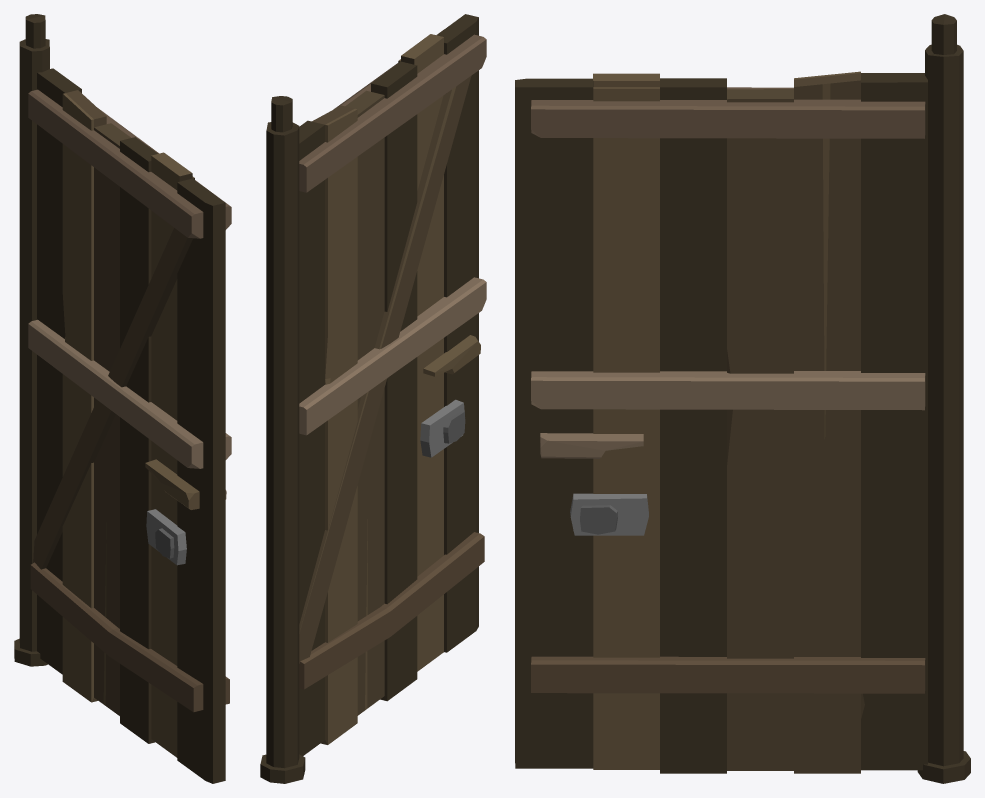
The model's file is EA03_Prop_House_Door_01b.glb.
3 renders of one model, left to right at view 1: azimuth 30°, elevation 25°; view 2: azimuth 150°, elevation 25°; view 3: azimuth 270°, elevation 25°, orthographic. The views are drawn at different scales.
Visible parts, largest first — view 1: EA03_Prop_House_Door_01b; view 2: EA03_Prop_House_Door_01b; view 3: EA03_Prop_House_Door_01b.
Part boxes in pixels (x1=…): EA03_Prop_House_Door_01b: x1=14, y1=14, x2=231, y2=783; EA03_Prop_House_Door_01b: x1=260, y1=14, x2=486, y2=783; EA03_Prop_House_Door_01b: x1=515, y1=14, x2=970, y2=783.
Bounding box in the file's own units: 0.1777 × 2.53 × 1.39.
1 material, 1 textured.
